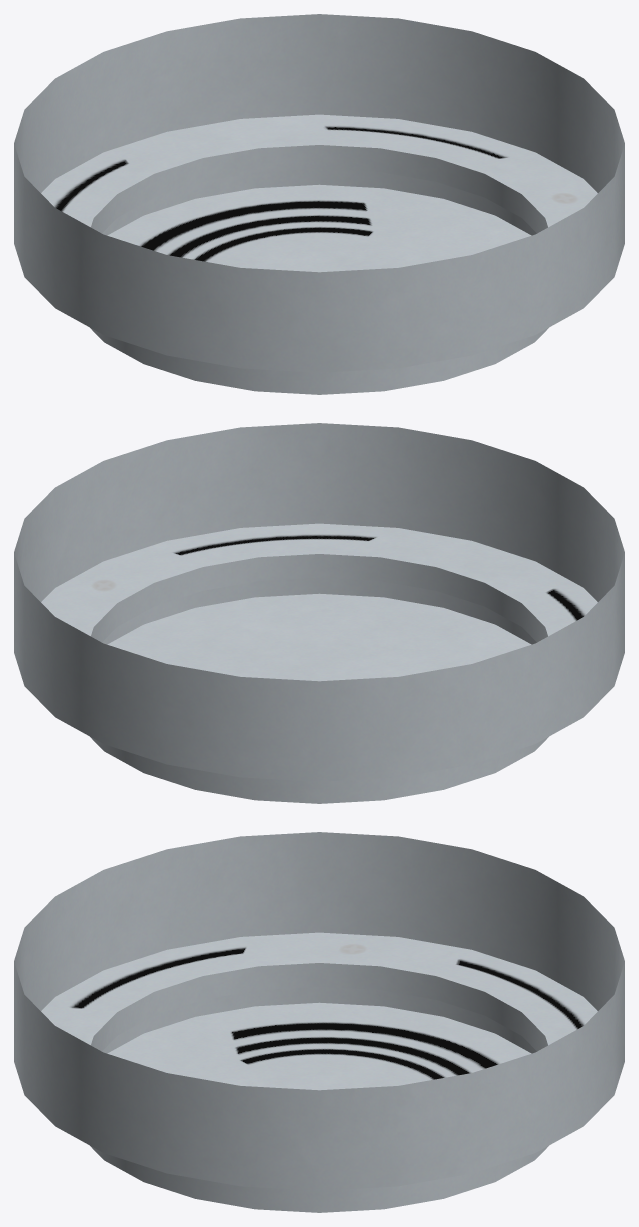
Rendered from FireSmoke01_2.FBX.
3 views of the same model, one above another, from view 1: azimuth 30°, elevation 25°; view 2: azimuth 150°, elevation 25°; view 3: azimuth 270°, elevation 25° (orthographic).
Visible parts, largest first — view 1: FireSmoke01_2; view 2: FireSmoke01_2; view 3: FireSmoke01_2.
Boxes of the visible parts, left/top/right/bottom form: FireSmoke01_2: left=14, top=14, right=624, bottom=394; FireSmoke01_2: left=14, top=423, right=624, bottom=803; FireSmoke01_2: left=14, top=832, right=624, bottom=1212.
Bounding box in the file's own units: 14 × 3.71 × 14.
